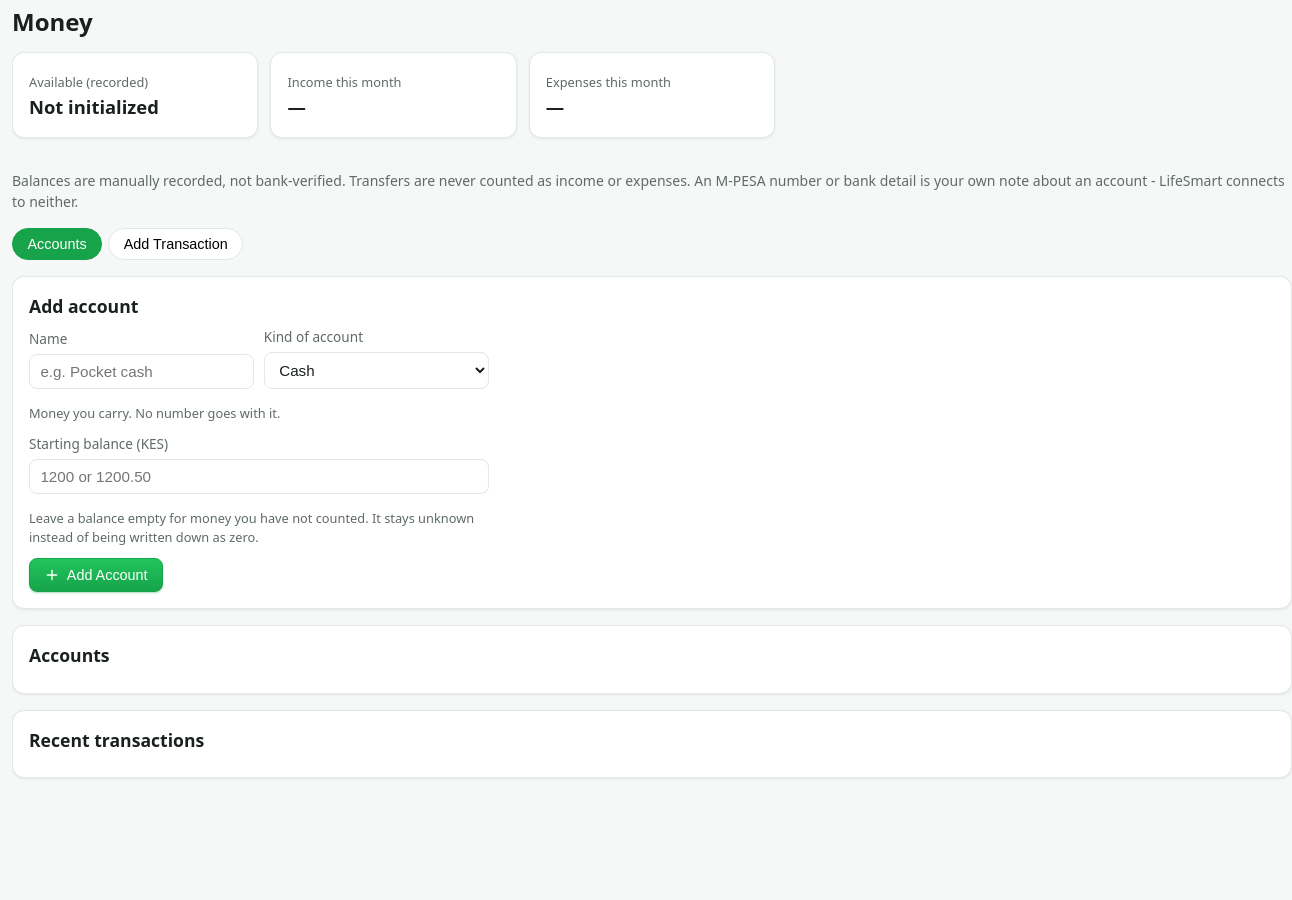
MoneyPage accounts › will not record a transaction against an account nobody finished adding
Expected: the heading "Accounts" is shown, [29, 644, 110, 668]
Click the tab "Add Transaction": (176, 244) [108, 228, 243, 260]
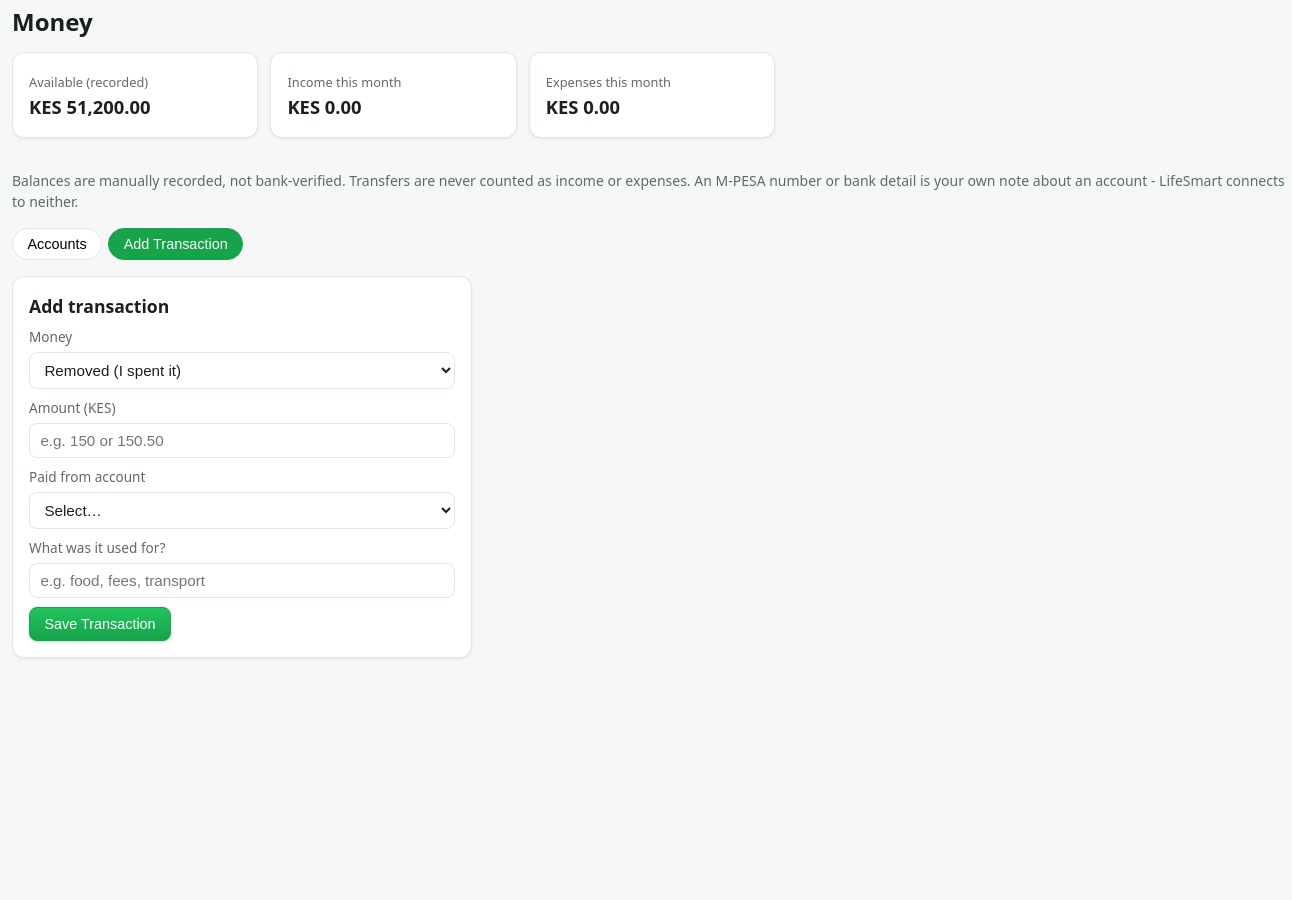
Select "+ Add a bank account…" in the dropdown labelled "Paid from account": (242, 510) [29, 492, 455, 529]
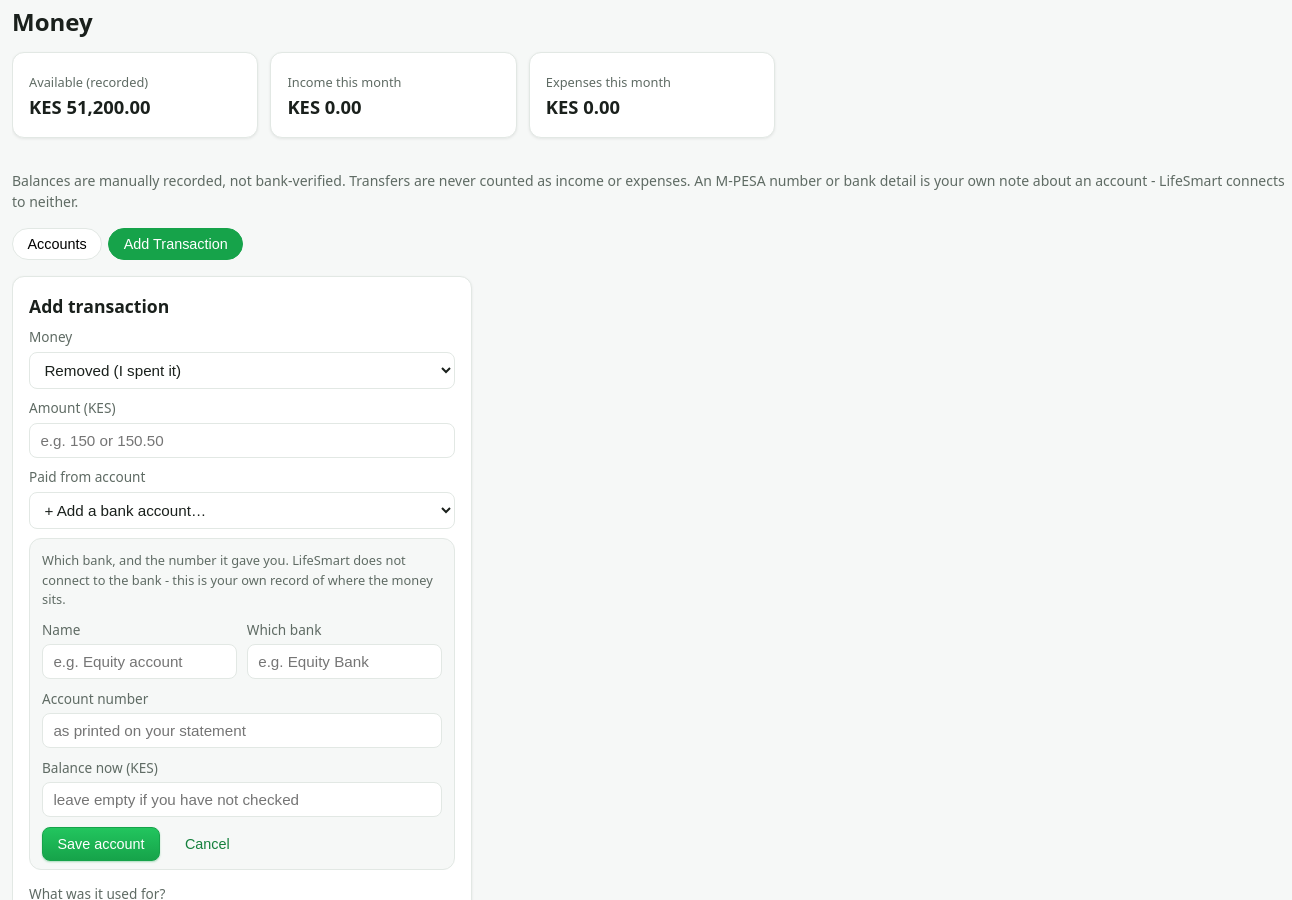
In the field labelled "Amount (KES)": (242, 440) [29, 423, 455, 458], type "200"
(page scrolled)
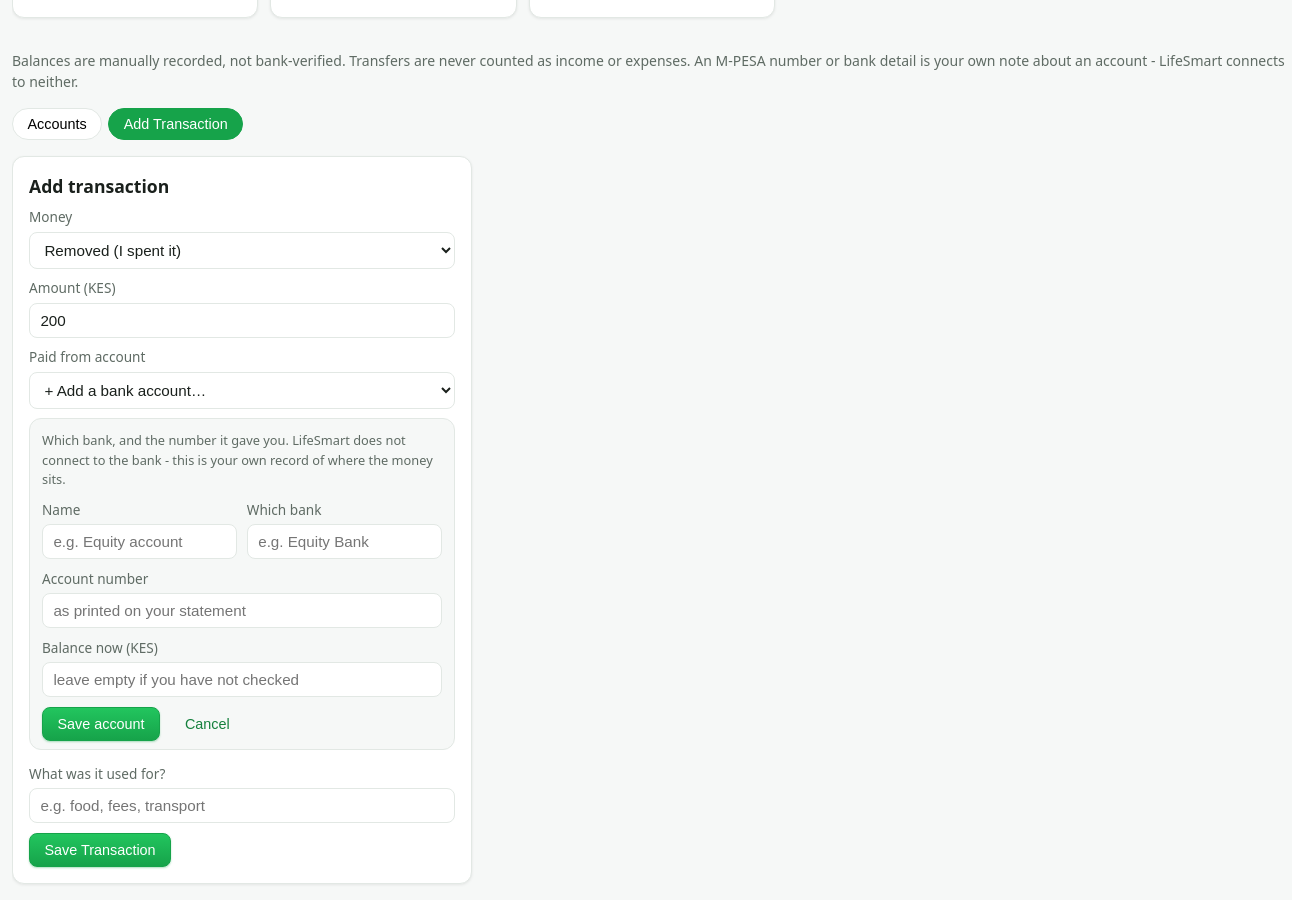
Click the button "Save Transaction": (100, 850) [29, 833, 171, 867]
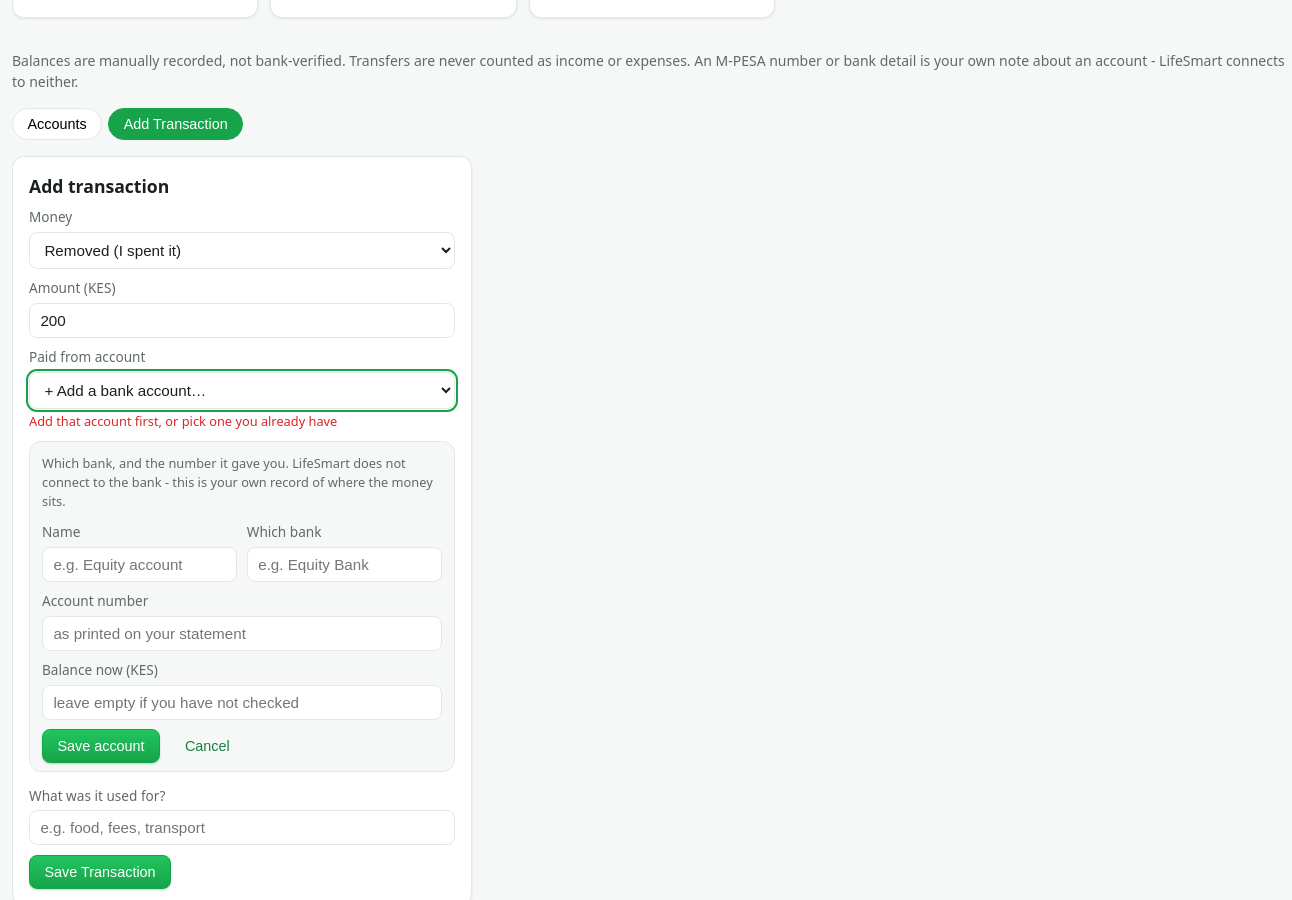
Result: the text "Add that account first, or pick one you already have" is shown at [29, 412, 337, 430]
# Cancelling clears the picker rather than leaving the false entry chosen.
Click the button "Cancel": (207, 746) [170, 729, 245, 763]
(page scrolled)
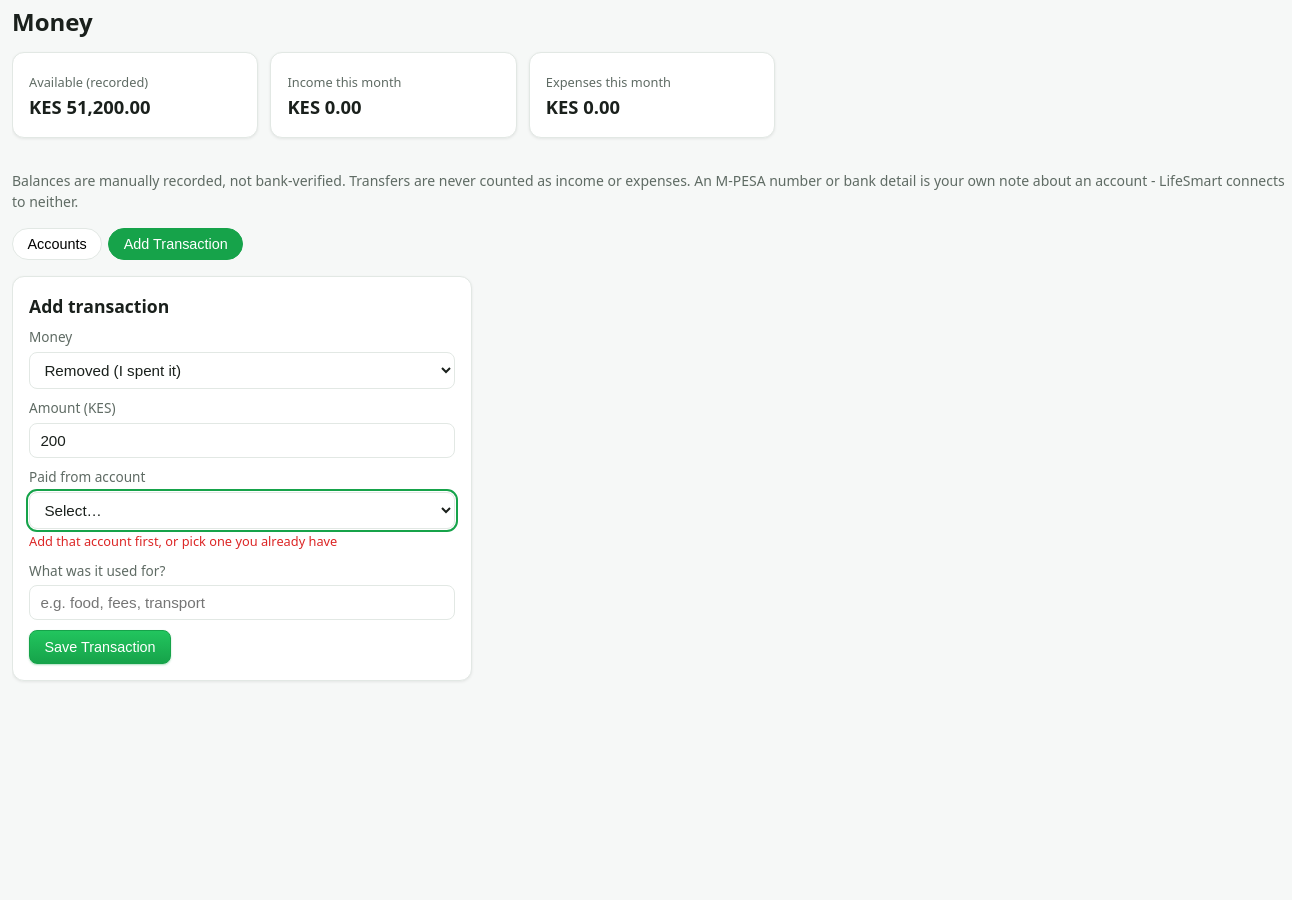
Result: the button "Save account" is gone
